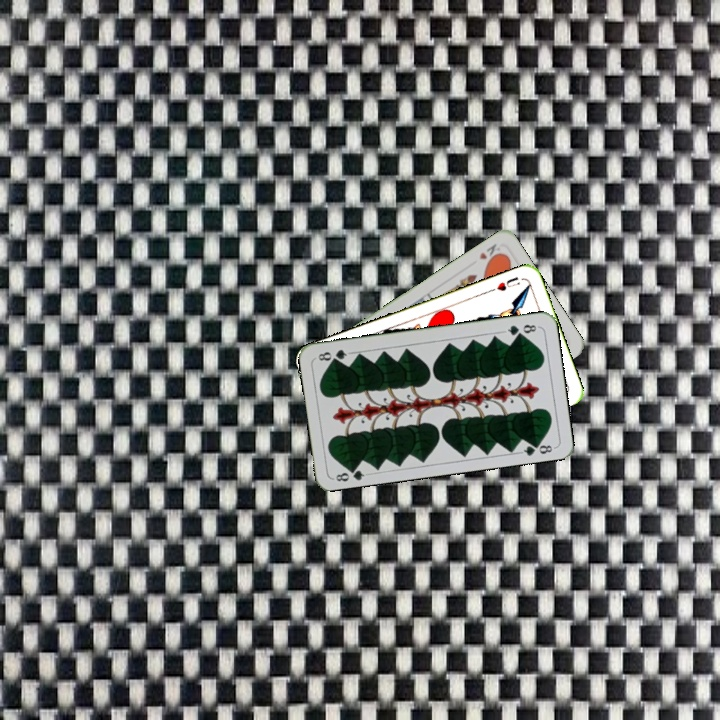G8: (330, 462, 371, 484), (500, 320, 541, 339)
HK: (475, 239, 504, 266)
HU: (486, 272, 522, 294)
